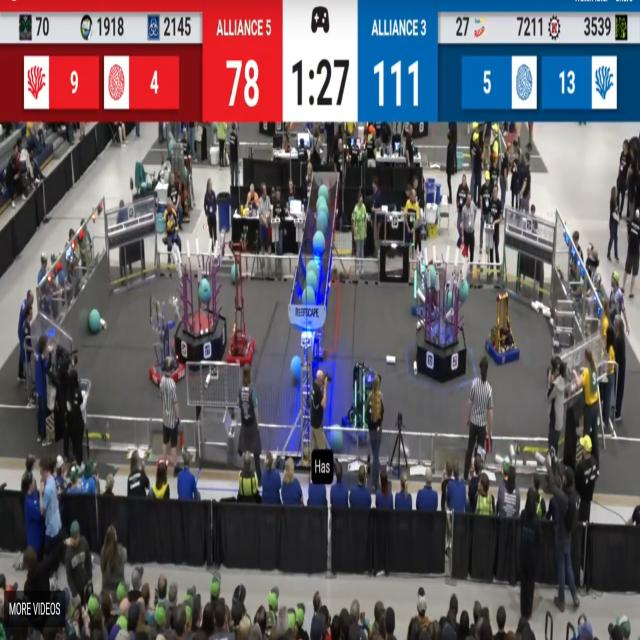Robot-YfA7: (226, 242, 255, 368), (149, 313, 185, 392), (485, 292, 521, 364)
